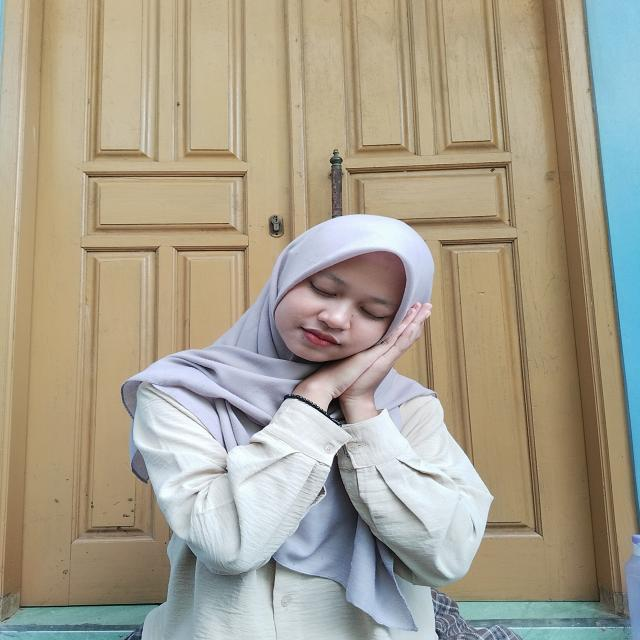tidur: (249, 300, 436, 450)
